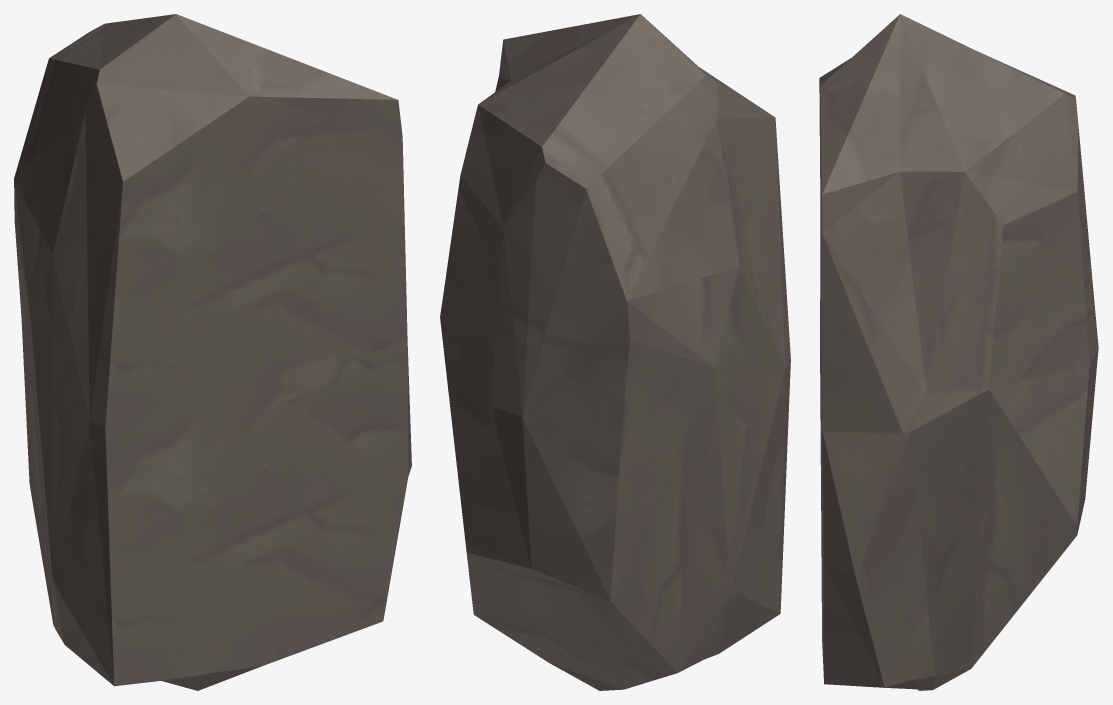
File: rock-02.obj
The picture shows the model from 3 angles, left to right: view 1: azimuth 30°, elevation 25°; view 2: azimuth 150°, elevation 25°; view 3: azimuth 270°, elevation 25°; orthographic projection. The views are drawn at different scales.
Visible parts, largest first — view 1: rock-02_Circle.031; view 2: rock-02_Circle.031; view 3: rock-02_Circle.031.
Part boxes in pixels (x1,y1,x2,y2): rock-02_Circle.031: (14, 14, 411, 690); rock-02_Circle.031: (440, 14, 790, 690); rock-02_Circle.031: (819, 14, 1098, 690).
Bounding box in the file's own units: 2.69 × 5.39 × 2.06.
